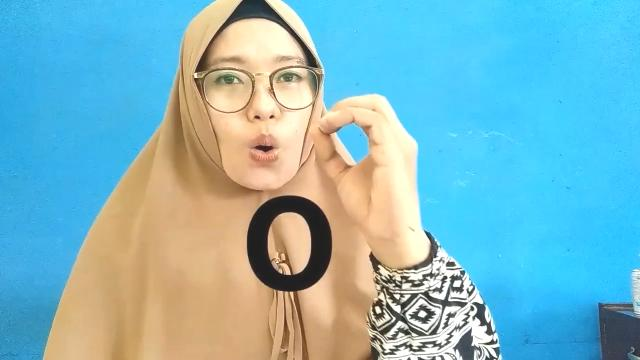A: (310, 91, 420, 235)
